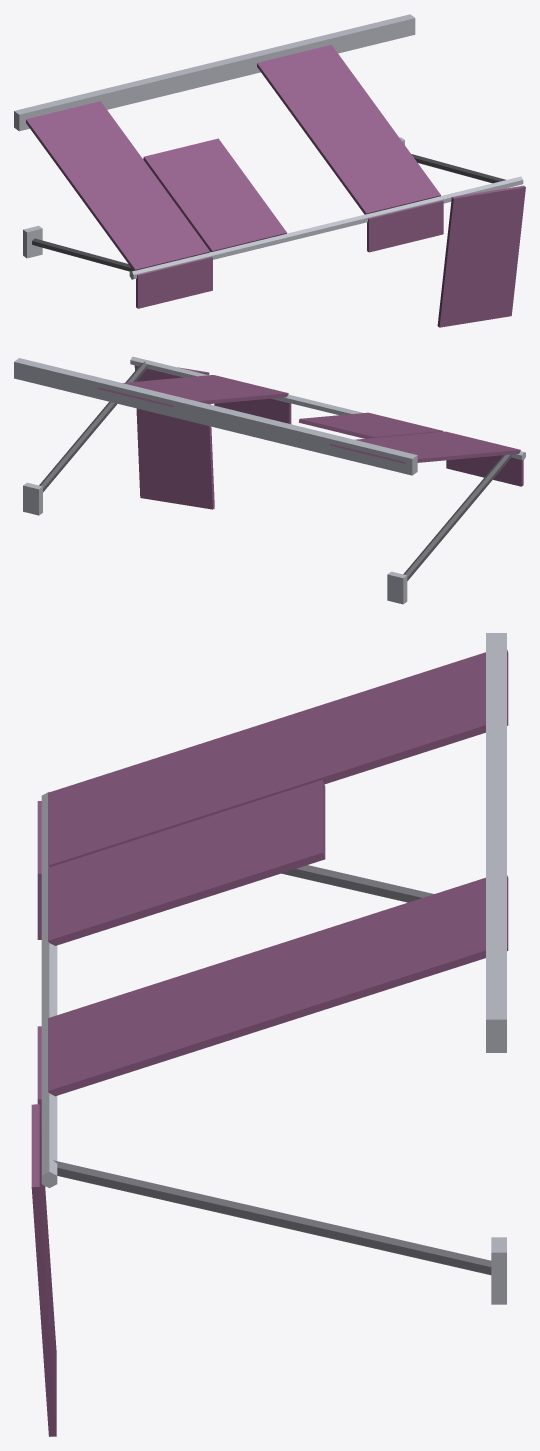
File: PR_Toldo_Rasgado.fbx
3 renders of one model, top to bottom at view 1: azimuth 30°, elevation 25°; view 2: azimuth 150°, elevation 25°; view 3: azimuth 270°, elevation 25°, orthographic. The views are drawn at different scales.
Parts seen in each view (by area): view 1: PR_Toldo_Rasgado; view 2: PR_Toldo_Rasgado; view 3: PR_Toldo_Rasgado.
Boxes of the visible parts, bbox=[...] form: PR_Toldo_Rasgado: bbox=[14, 14, 525, 327]; PR_Toldo_Rasgado: bbox=[14, 356, 525, 604]; PR_Toldo_Rasgado: bbox=[31, 633, 508, 1436].
Size of the model in its own units: 3.5 by 1.81 by 1.82.
